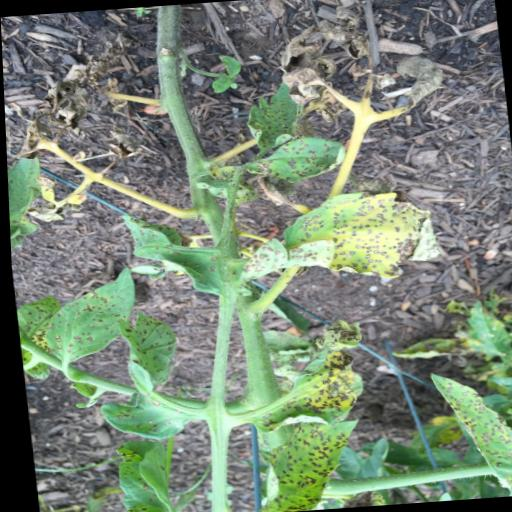Septoria: (229, 182, 444, 288), (231, 316, 372, 431), (87, 306, 190, 442), (223, 417, 368, 512), (27, 265, 142, 366), (122, 204, 229, 305), (425, 367, 512, 487), (217, 78, 311, 154), (242, 131, 349, 188), (105, 437, 182, 512), (12, 294, 61, 356)
